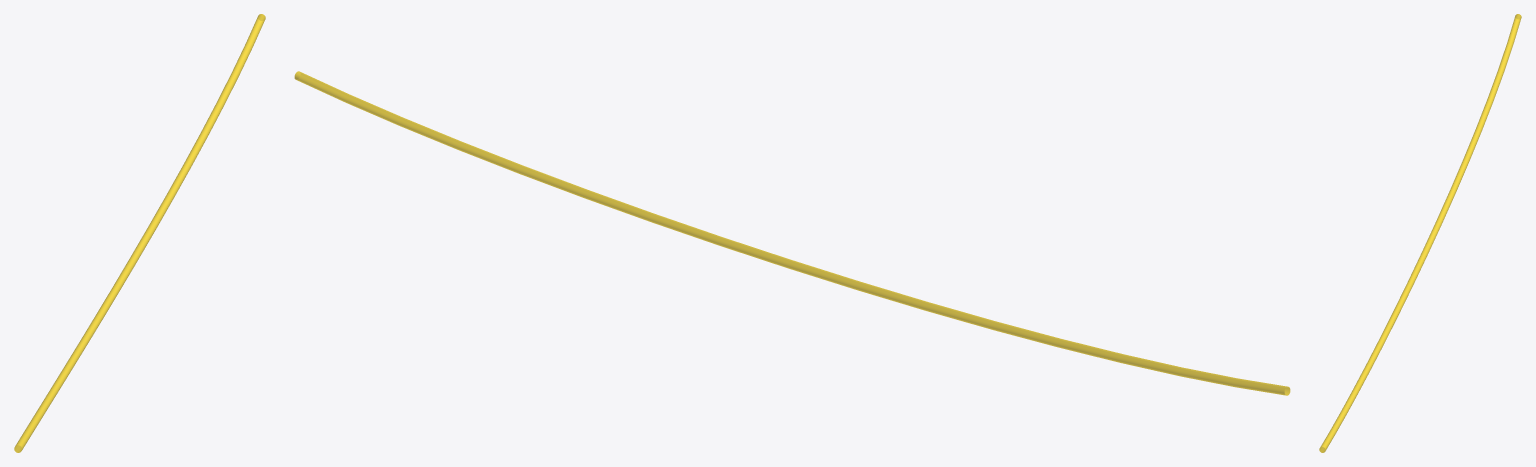
File: Event_31209032_track_45.fbx
3 views of the same model, side by side, from view 1: azimuth 90°, elevation 25°; view 2: azimuth 150°, elevation 25°; view 3: azimuth 270°, elevation 25° (orthographic). The views are drawn at different scales.
Visible parts, largest first — view 1: Model; view 2: Model; view 3: Model.
Boxes of the visible parts, box(x1,y1,x2,y2) form: Model: box(14, 14, 265, 452); Model: box(294, 71, 1290, 395); Model: box(1319, 14, 1521, 452).
Size of the model in its own units: 5.68 by 0.3695 by 1.24.
